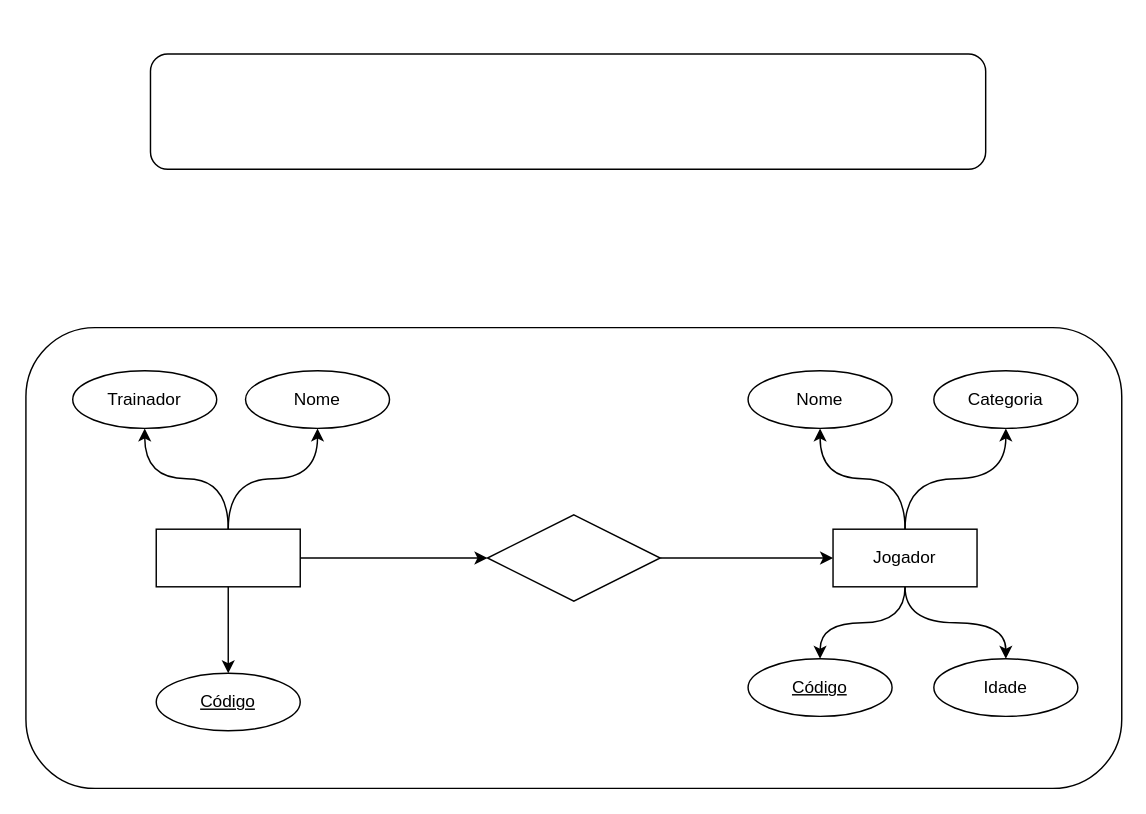
Some shapes in this 1146 by 814 pixel diagram are drawn without their labels. The shapes that lost their labels are listed below. From the top down, each one's centre as x and y in pixels, then its label:
At (x=567, y=111): "Diagrama - Exercício 1, Quadro".
At (x=227, y=557): "Equpe".
At (x=573, y=557): "Convocado".
